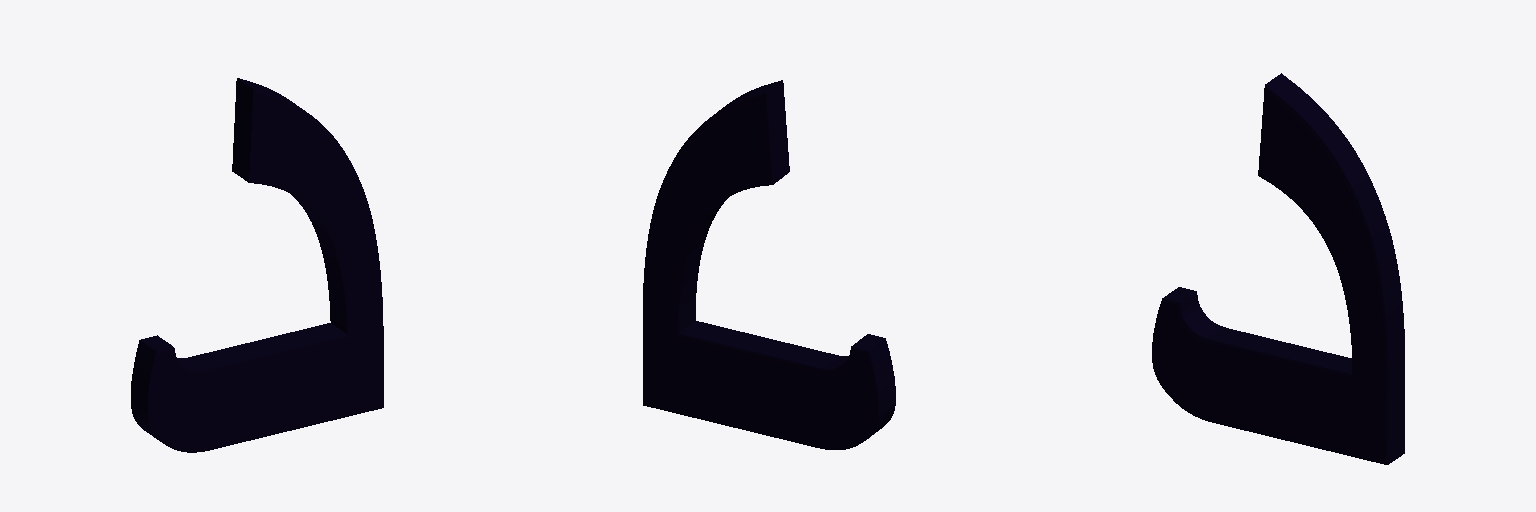
Rendered from Dal.obj.
3 renders of one model, left to right at view 1: azimuth 30°, elevation 25°; view 2: azimuth 150°, elevation 25°; view 3: azimuth 330°, elevation 25°, orthographic.
Parts seen in each view (by area): view 1: Curve.007; view 2: Curve.007; view 3: Curve.007.
Part boxes in pixels (x1,y1,x2,y2): Curve.007: (131, 78, 383, 452); Curve.007: (643, 80, 895, 449); Curve.007: (1152, 73, 1404, 464).
Size of the model in its own units: 1.91 by 2.68 by 0.2988.